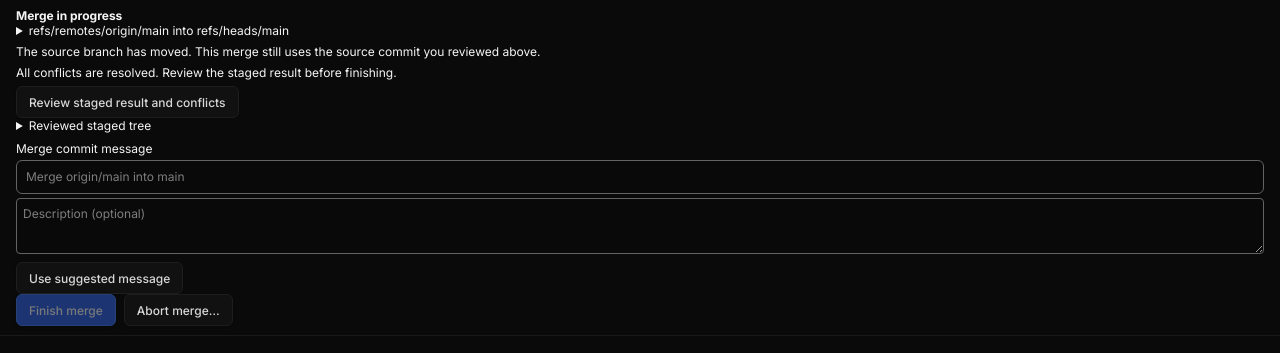
Test: keeps a readable failure and refreshes state after a rejected Finish
Click the button "Use suggested message": (100, 278) x1=16 y1=262 x2=183 y2=294
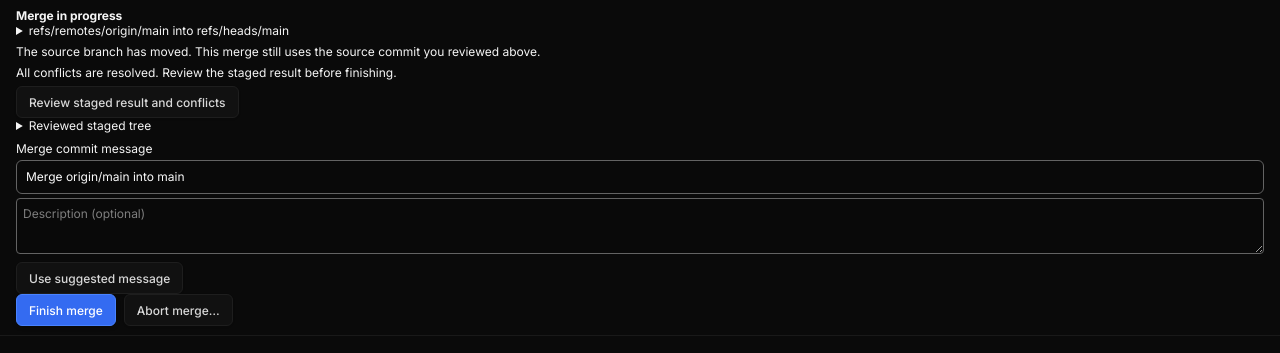
Click the button "Finish merge": (66, 310) x1=16 y1=294 x2=116 y2=326
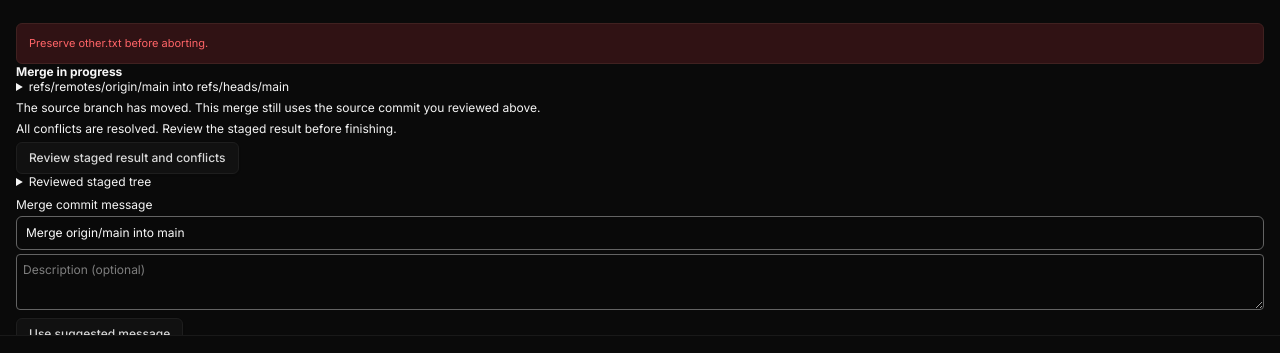
Expected: the message "Preserve other.txt before aborting." is shown, x1=16 y1=23 x2=1264 y2=64
